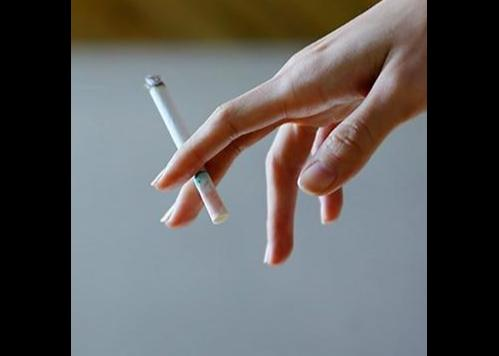Cigarette: (147, 74, 228, 223)
